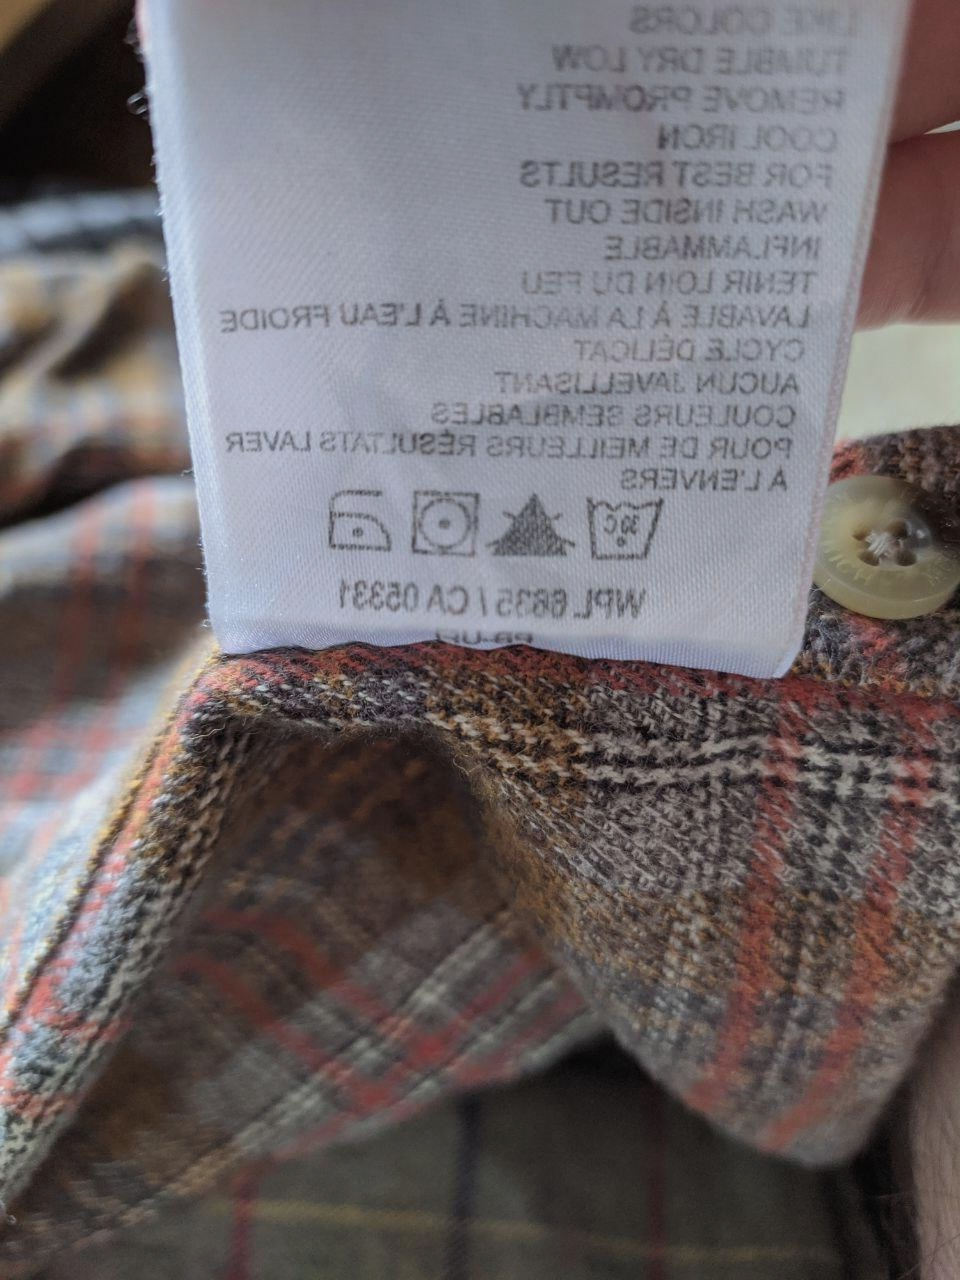30C: (575, 491, 664, 560)
DN_bleach: (494, 498, 571, 560)
iron_low: (327, 485, 396, 553)
tumble_dry_low: (408, 485, 481, 565)
